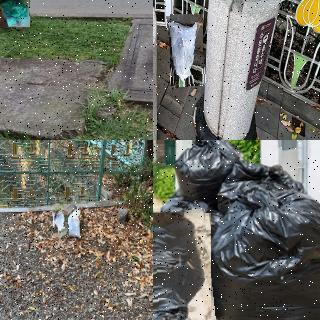Garbage: (206, 196, 320, 320), (153, 210, 213, 320), (176, 140, 243, 195), (168, 14, 205, 87), (0, 0, 31, 28), (66, 208, 81, 238), (53, 211, 68, 237)
